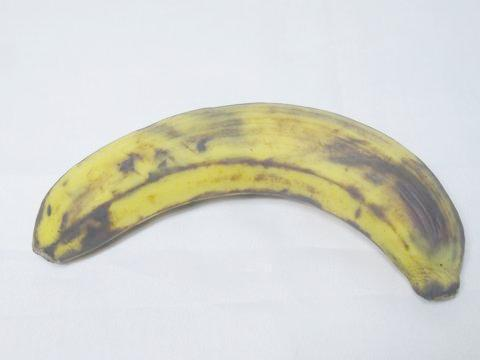overripe: (20, 91, 476, 310)
